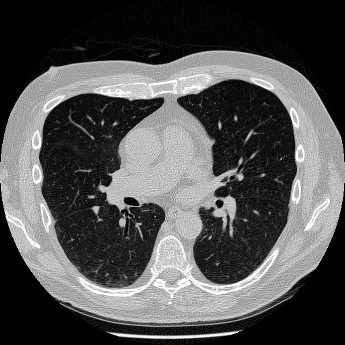nodule: (92, 205, 100, 213)
